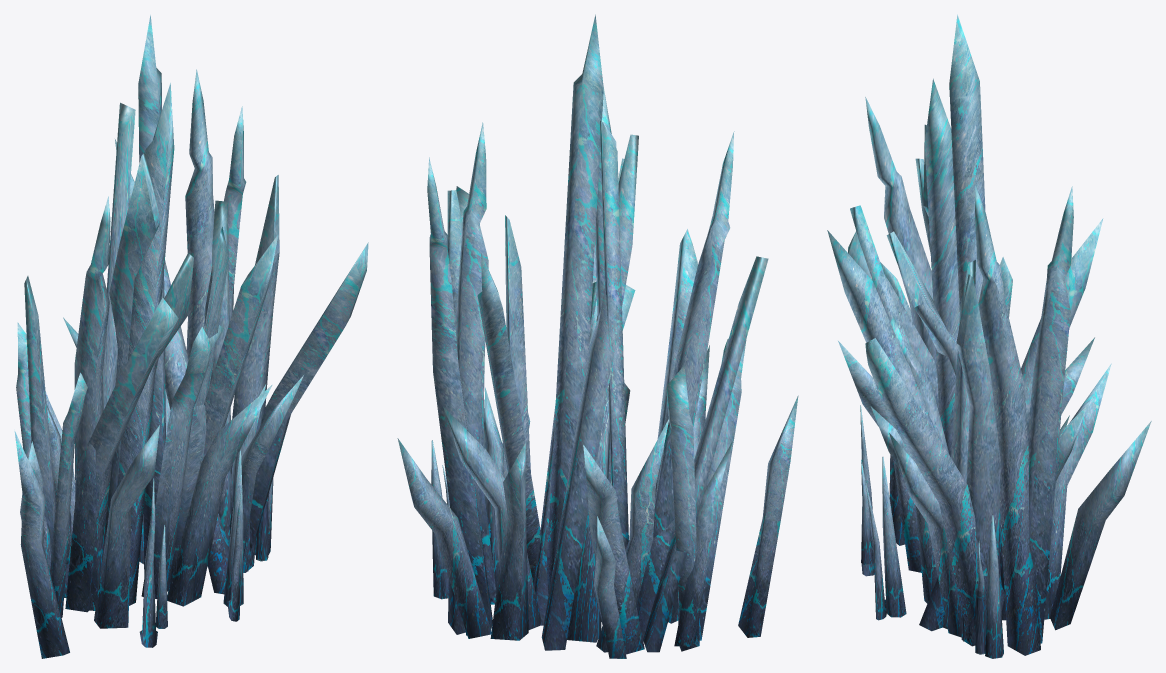
File: ice_pillar_s00.glb
3 views of the same model, side by side, from view 1: azimuth 30°, elevation 25°; view 2: azimuth 150°, elevation 25°; view 3: azimuth 270°, elevation 25° (orthographic). The views are drawn at different scales.
Parts seen in each view (by area): view 1: ice_pillar_s00; view 2: ice_pillar_s00; view 3: ice_pillar_s00.
Part boxes in pixels (box(x1,y1,x2,y2)): ice_pillar_s00: box(14, 15, 368, 658); ice_pillar_s00: box(397, 14, 798, 658); ice_pillar_s00: box(827, 14, 1151, 658).
Bounding box in the file's own units: 48.17 × 79.94 × 39.71.
Materials: 1 (1 with a texture image).
